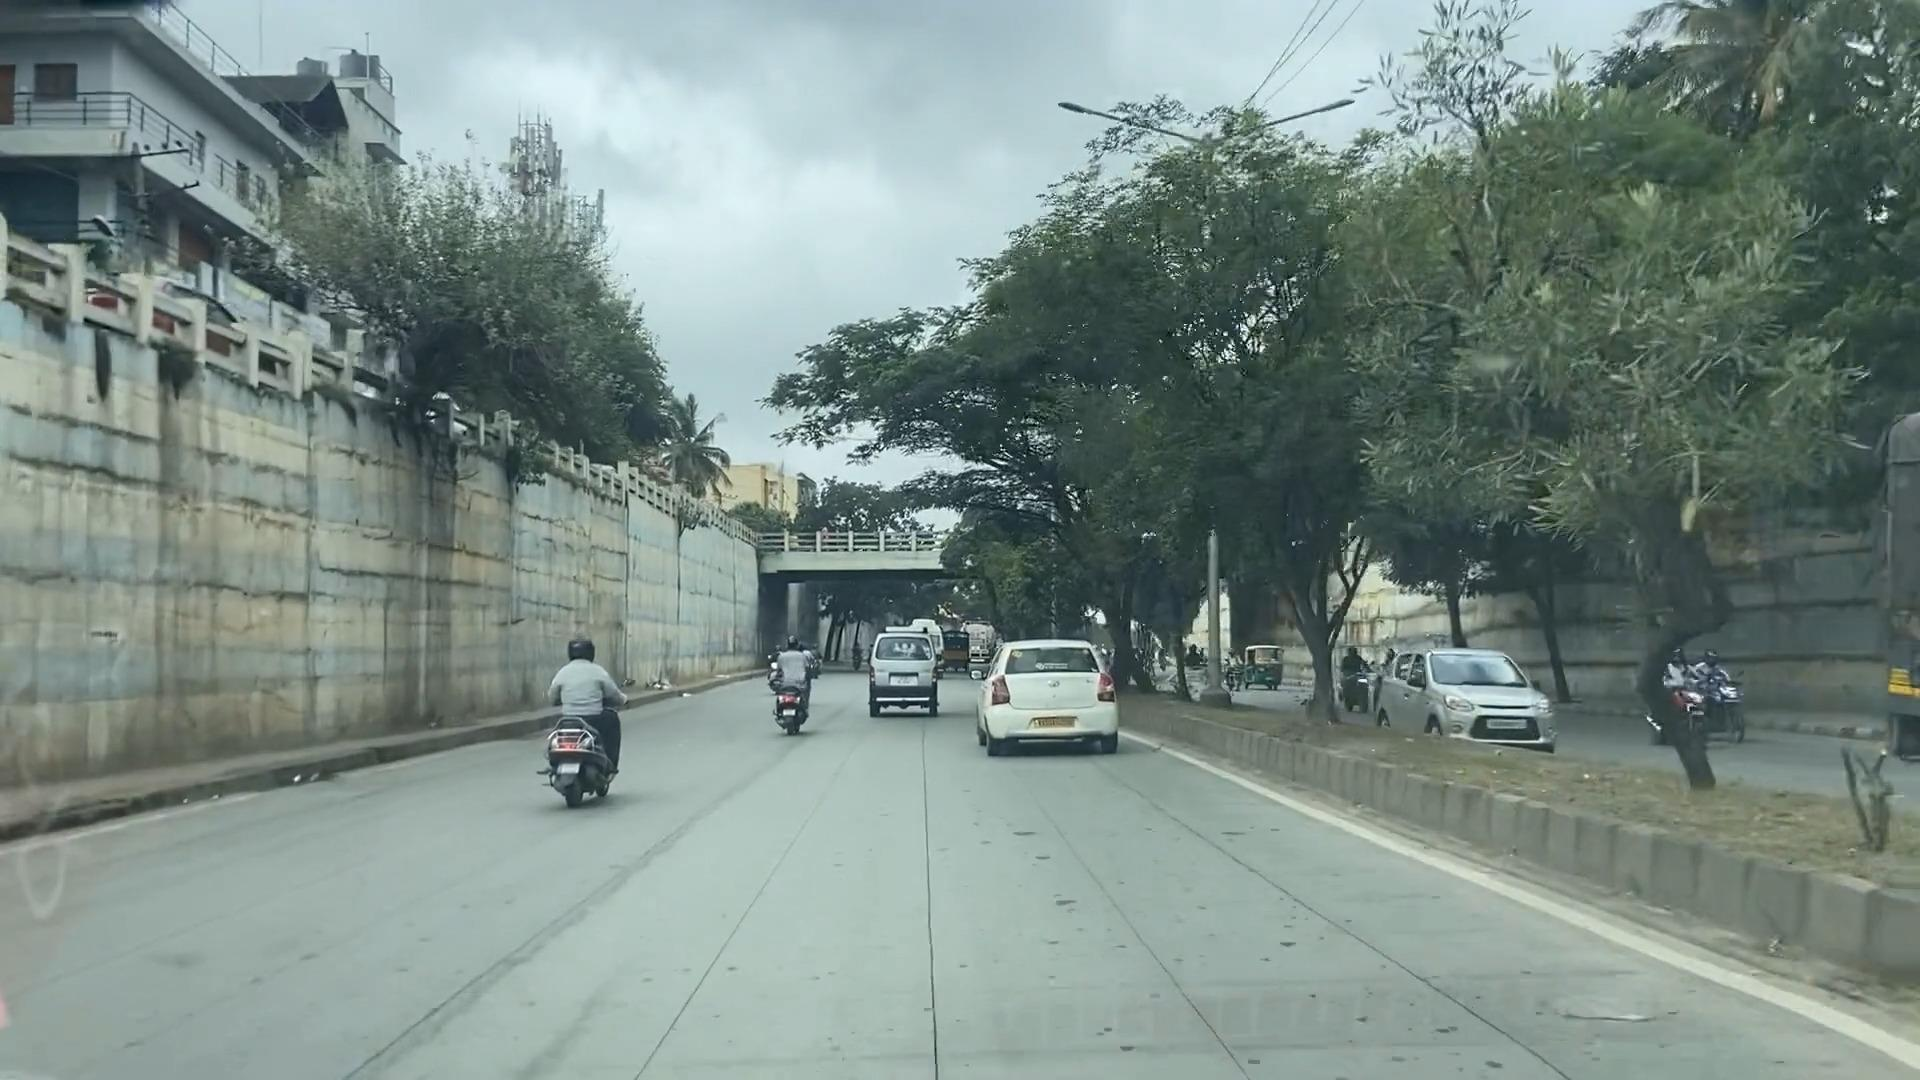LMV: (498, 605, 636, 806), (968, 633, 1125, 757)
